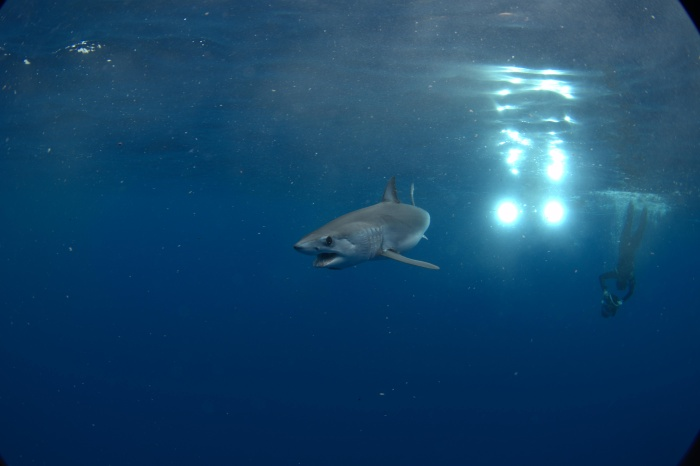Mako: (290, 169, 446, 278)
